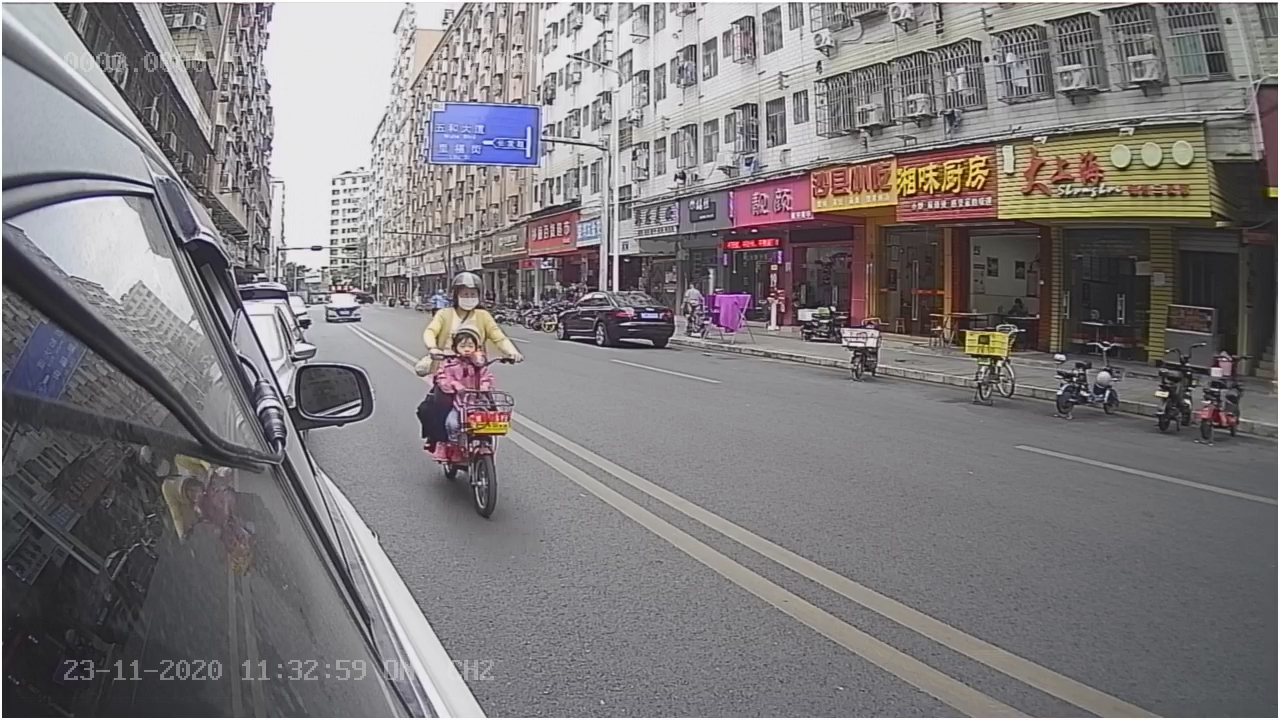person: (419, 264, 503, 354)
